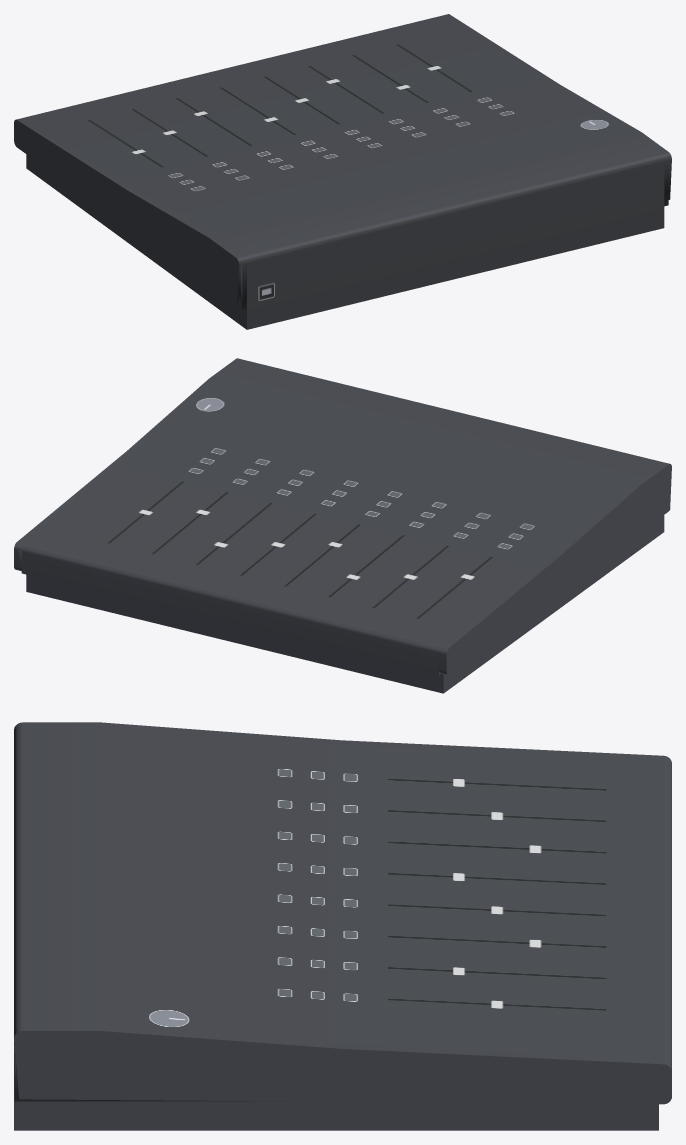
The model's file is presonus-faderport-8.glb.
3 renders of one model, top to bottom at view 1: azimuth 30°, elevation 25°; view 2: azimuth 150°, elevation 25°; view 3: azimuth 270°, elevation 25°, orthographic. The views are drawn at different scales.
Parts seen in each view (by area): view 1: presonus-faderport-8-body; view 2: presonus-faderport-8-body; view 3: presonus-faderport-8-body.
Part boxes in pixels (box(x1,y1,x2,y2)): presonus-faderport-8-body: box(14, 14, 671, 329); presonus-faderport-8-body: box(14, 358, 671, 693); presonus-faderport-8-body: box(14, 722, 671, 1130).
Bounding box in the file's own units: 0.334 × 0.057 × 0.301.
1 material, 1 textured.
